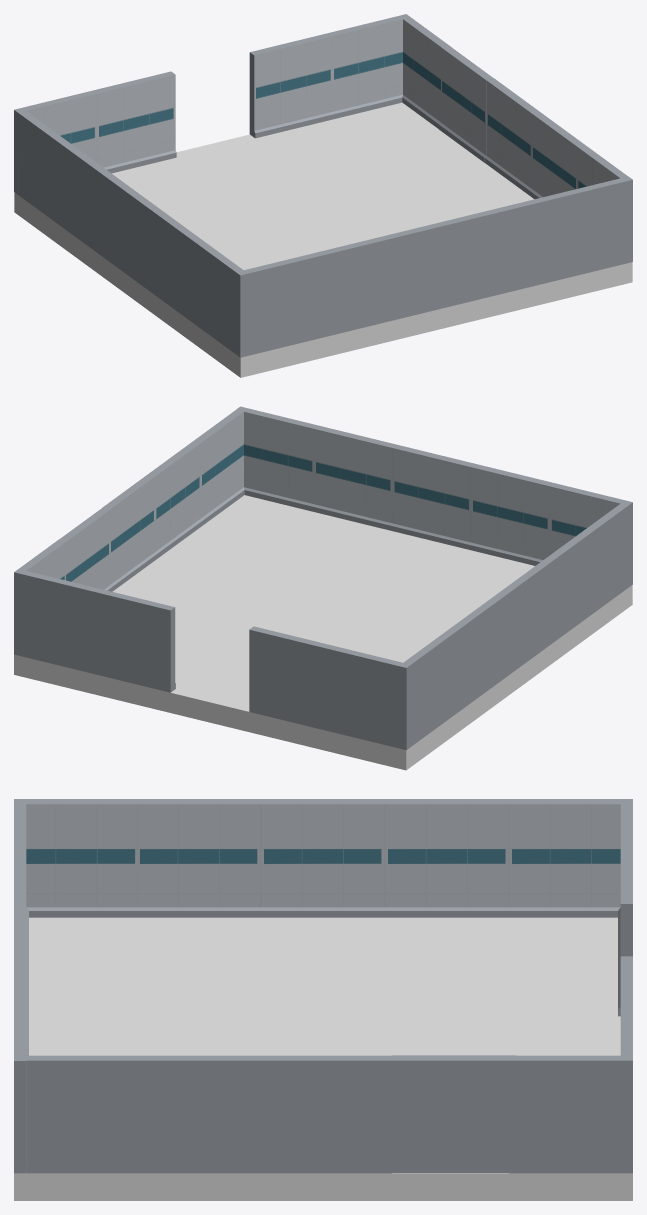
File: rooms.glb
3 renders of one model, top to bottom at view 1: azimuth 30°, elevation 25°; view 2: azimuth 150°, elevation 25°; view 3: azimuth 270°, elevation 25°, orthographic. The views are drawn at different scales.
Parts seen in each view (by area): view 1: ground-col, wall_2m-col.004, wall_2m-col.011, wall_2m-col.013, wall_2m-col.012, wall_2m-col.014, wall_2m-col.015, wall_2m-col.002, wall_2m-col.005, wall_2m-col.018, wall_2m-col.019, wall_2m-col.010 (+8 smaller); view 2: ground-col, wall_2m-col.004, wall_2m-col.001, wall_2m-col.013, wall_2m-col.014, wall_2m-col.002, wall_2m-col.012, wall_2m-col.005, wall_2m-col.015, wall_2m-col.017, wall_2m-col.018, wall_2m-col.009 (+8 smaller); view 3: ground-col, wall_2m-col.017, wall_2m-col.018, wall_2m-col.009, wall_2m-col.007, wall_2m-col.008, wall_2m-col.016, wall_2m-col.019, wall_2m-col.010, wall_2m-col.020, wall_2m-col.006, wall_2m-col.005 (+8 smaller).
Boxes of the visible parts, x1,y1,x2,y2 form: ground-col: [14, 102, 632, 377]; wall_2m-col.004: [249, 33, 333, 138]; wall_2m-col.011: [235, 253, 318, 357]; wall_2m-col.013: [393, 214, 476, 319]; wall_2m-col.012: [315, 234, 397, 338]; wall_2m-col.014: [472, 195, 554, 299]; wall_2m-col.015: [550, 176, 632, 280]; wall_2m-col.002: [93, 71, 176, 173]; wall_2m-col.005: [328, 14, 410, 119]; wall_2m-col.018: [485, 78, 539, 195]; wall_2m-col.019: [439, 45, 493, 162]; wall_2m-col.010: [194, 240, 247, 356]; ground-col: [14, 495, 632, 770]; wall_2m-col.004: [92, 588, 175, 692]; wall_2m-col.001: [328, 645, 411, 749]; wall_2m-col.013: [391, 444, 475, 549]; wall_2m-col.014: [313, 425, 396, 530]; wall_2m-col.002: [249, 626, 331, 730]; wall_2m-col.012: [470, 464, 553, 565]; wall_2m-col.005: [14, 569, 96, 673]; wall_2m-col.015: [236, 406, 318, 511]; wall_2m-col.017: [148, 441, 202, 558]; wall_2m-col.018: [102, 474, 156, 591]; wall_2m-col.009: [535, 533, 587, 650]; ground-col: [14, 917, 632, 1200]; wall_2m-col.017: [144, 1055, 268, 1173]; wall_2m-col.018: [268, 1055, 392, 1173]; wall_2m-col.009: [136, 799, 260, 917]; wall_2m-col.007: [385, 799, 508, 917]; wall_2m-col.008: [261, 799, 384, 917]; wall_2m-col.016: [20, 1055, 144, 1173]; wall_2m-col.019: [392, 1055, 516, 1172]; wall_2m-col.010: [14, 799, 138, 917]; wall_2m-col.020: [509, 1055, 632, 1173]; wall_2m-col.006: [509, 799, 632, 917]; wall_2m-col.005: [618, 1008, 632, 1173].
Bounding box in the file's own units: 19.97 × 4.99 × 19.96.
Materials: 1 (1 with a texture image).
